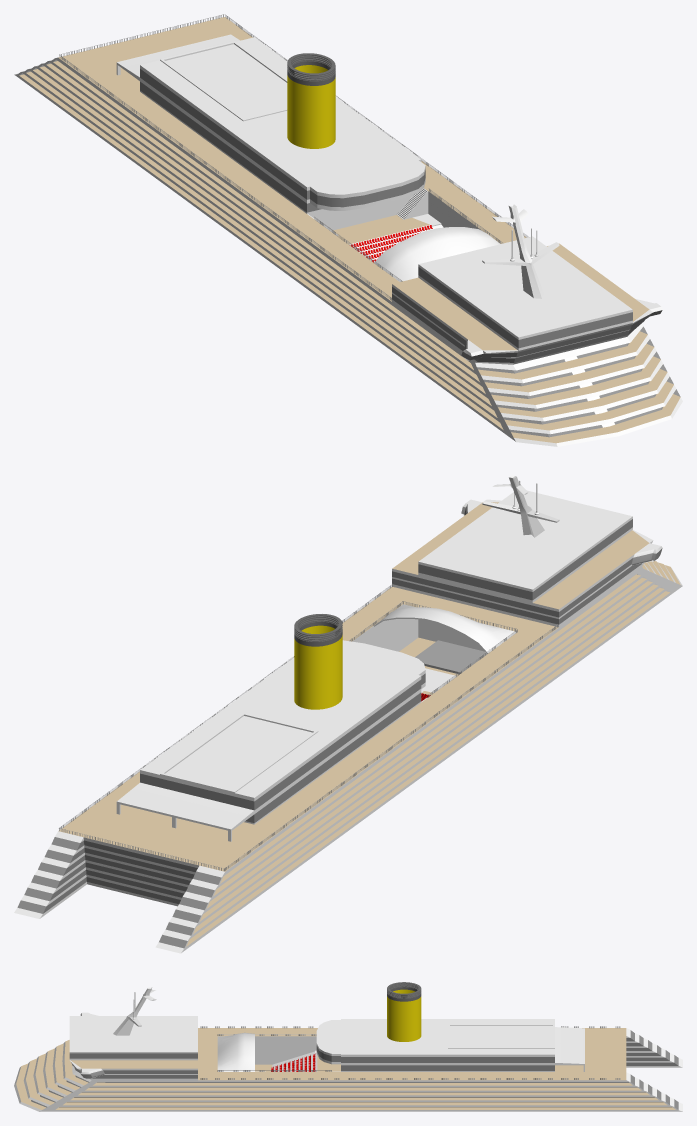
File: Cruise_Ship.fbx
3 views of the same model, one above another, from view 1: azimuth 30°, elevation 25°; view 2: azimuth 150°, elevation 25°; view 3: azimuth 270°, elevation 25° (orthographic). The views are drawn at different scales.
Visible parts, largest first — view 1: Ship_Root, Ship_Deck_Ground, Ship_Stage_Ground, Ship_Outer_Fence_E, Stage_Stairs; view 2: Ship_Root, Ship_Deck_Ground, Ship_Stage, Ship_Outer_Fence_E, Ship_Stage_Ground, Ship_Outer_Fence_W; view 3: Ship_Root, Ship_Deck_Ground, Ship_Stage_Ground, Ship_Outer_Fence_W.
Part boxes in pixels (x1,y1,x2,y2): Ship_Root: [14, 34, 682, 446]; Ship_Deck_Ground: [58, 17, 526, 301]; Ship_Stage_Ground: [333, 214, 443, 262]; Ship_Outer_Fence_E: [59, 55, 391, 300]; Stage_Stairs: [307, 188, 428, 235]; Ship_Root: [14, 475, 682, 953]; Ship_Deck_Ground: [58, 587, 558, 871]; Ship_Stage: [415, 640, 486, 673]; Ship_Outer_Fence_E: [224, 624, 558, 870]; Ship_Stage_Ground: [399, 637, 458, 695]; Ship_Outer_Fence_W: [59, 584, 392, 829]; Ship_Root: [14, 982, 682, 1111]; Ship_Deck_Ground: [198, 1028, 626, 1080]; Ship_Stage_Ground: [255, 1050, 340, 1071]; Ship_Outer_Fence_W: [200, 1078, 620, 1079].
Bounding box in the file's own units: 6942 × 5228 × 32464.
